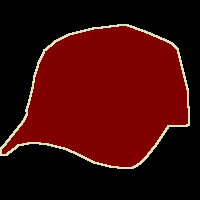hat: (0, 24, 189, 168)
